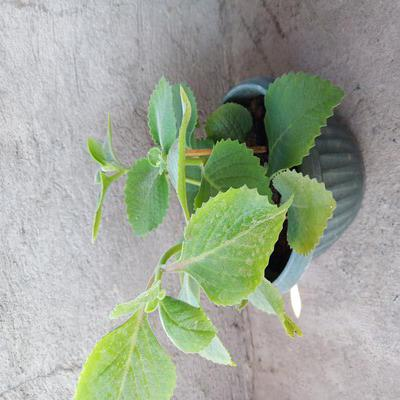Oregano: (83, 91, 329, 371)
